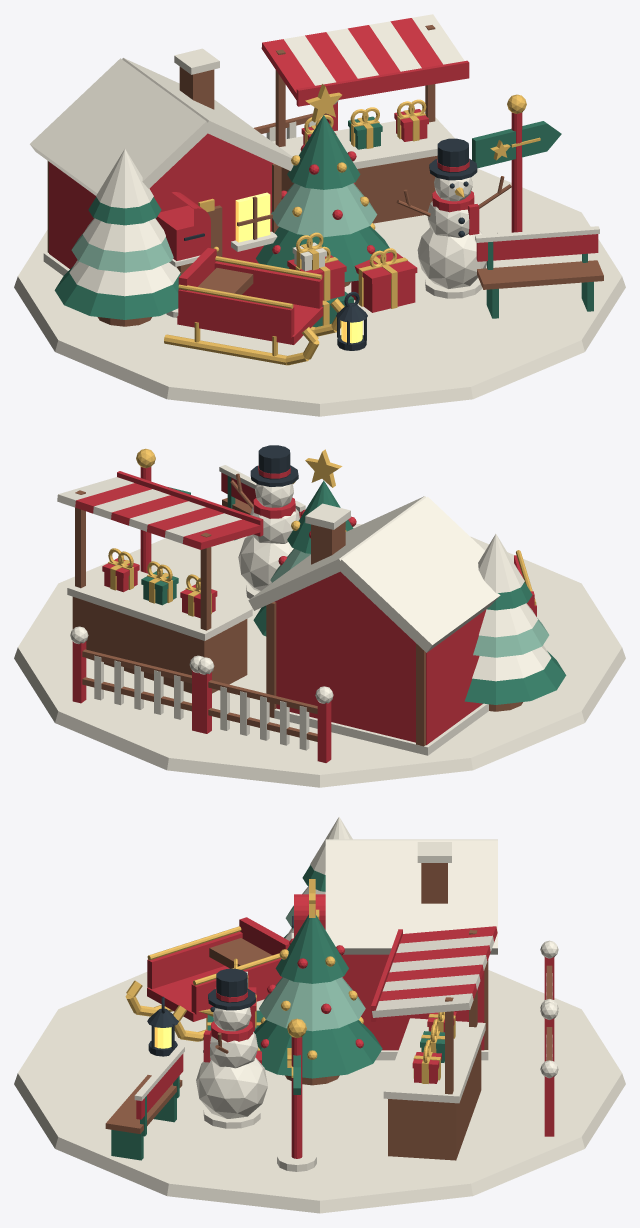
File: winter_market.glb
3 renders of one model, top to bottom at view 1: azimuth 30°, elevation 25°; view 2: azimuth 150°, elevation 25°; view 3: azimuth 270°, elevation 25°, orthographic.
Visible parts, largest first — view 1: 000-snow-island/0, 001-christmas-cottage/5, 001-christmas-cottage/0, 003-decorated-christmas-tree/9, 002-gift-market-stall/0, 006-santa-sleigh/3, 001-christmas-cottage/6, 004-snowy-fir/2, 001-christmas-cottage/4, 002-gift-market-stall/1, 002-gift-market-stall/12, 005-snowman/1 (+40 smaller); view 2: 000-snow-island/0, 001-christmas-cottage/0, 001-christmas-cottage/5, 002-gift-market-stall/0, 002-gift-market-stall/1, 001-christmas-cottage/6, 001-christmas-cottage/4, 004-snowy-fir/2, 001-christmas-cottage/1, 005-snowman/1, 004-snowy-fir/3, 004-snowy-fir/7 (+35 smaller); view 3: 000-snow-island/0, 001-christmas-cottage/6, 002-gift-market-stall/0, 003-decorated-christmas-tree/2, 002-gift-market-stall/1, 003-decorated-christmas-tree/9, 001-christmas-cottage/0, 005-snowman/1, 003-decorated-christmas-tree/16, 006-santa-sleigh/3, 002-gift-market-stall/11, 006-santa-sleigh/0 (+28 smaller).
Boxes of the visible parts, box(x1,y1,x2,y2) form: 000-snow-island/0: box(14, 168, 625, 416); 001-christmas-cottage/5: box(30, 58, 211, 195); 001-christmas-cottage/0: box(49, 162, 271, 268); 003-decorated-christmas-tree/9: box(271, 183, 377, 237); 002-gift-market-stall/0: box(281, 155, 437, 223); 006-santa-sleigh/3: box(178, 289, 294, 337); 001-christmas-cottage/6: box(122, 58, 293, 170); 004-snowy-fir/2: box(54, 266, 180, 319); 001-christmas-cottage/4: box(149, 133, 273, 193); 002-gift-market-stall/1: box(272, 117, 454, 168); 002-gift-market-stall/12: box(296, 60, 469, 106); 005-snowman/1: box(417, 227, 486, 288); 000-snow-island/0: box(14, 523, 625, 787); 001-christmas-cottage/0: box(276, 602, 486, 745); 001-christmas-cottage/5: box(336, 496, 500, 652); 002-gift-market-stall/0: box(72, 597, 247, 693); 002-gift-market-stall/1: box(67, 569, 252, 640); 001-christmas-cottage/6: box(248, 496, 425, 610); 001-christmas-cottage/4: box(274, 571, 406, 634); 004-snowy-fir/2: box(464, 651, 566, 704); 001-christmas-cottage/1: box(274, 703, 488, 755); 005-snowman/1: box(238, 535, 293, 591); 004-snowy-fir/3: box(472, 645, 551, 681); 004-snowy-fir/7: box(478, 534, 524, 593); 000-snow-island/0: box(14, 970, 625, 1213); 001-christmas-cottage/6: box(325, 840, 497, 954); 002-gift-market-stall/0: box(388, 1043, 481, 1160); 003-decorated-christmas-tree/2: box(254, 1020, 382, 1078); 002-gift-market-stall/1: box(383, 1018, 485, 1103); 003-decorated-christmas-tree/9: box(259, 977, 365, 1031); 001-christmas-cottage/0: box(341, 954, 484, 1050); 005-snowman/1: box(196, 1057, 267, 1118); 003-decorated-christmas-tree/16: box(275, 914, 348, 983); 006-santa-sleigh/3: box(147, 931, 242, 988); 002-gift-market-stall/11: box(372, 993, 473, 1017); 006-santa-sleigh/0: box(147, 966, 268, 1021).
Size of the model in its own units: 8 by 2.96 by 8.
